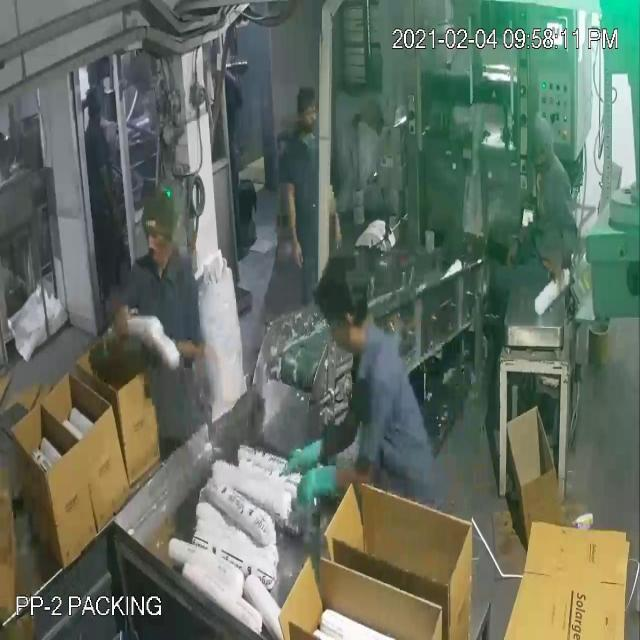No_Gloves: (25, 44, 337, 487)
